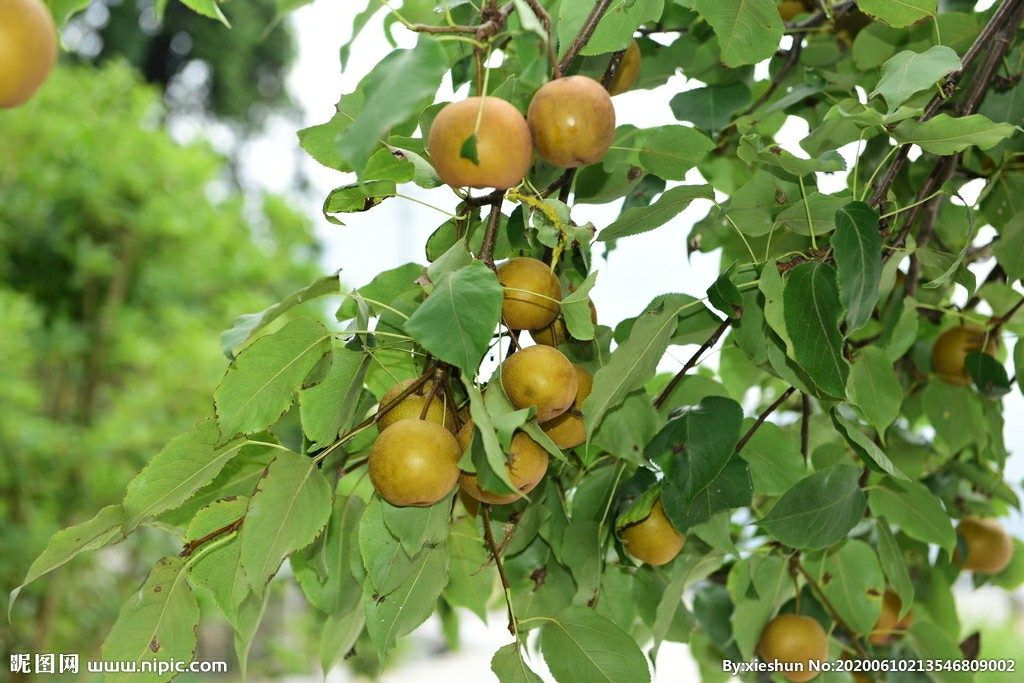pear: (429, 95, 531, 187), (366, 413, 459, 505), (457, 415, 547, 503), (530, 74, 616, 166), (1, 1, 59, 115), (499, 345, 578, 424), (615, 487, 689, 567), (377, 373, 457, 446), (490, 260, 562, 333), (530, 369, 592, 452), (760, 612, 831, 683), (932, 325, 998, 388), (953, 523, 1012, 575)
